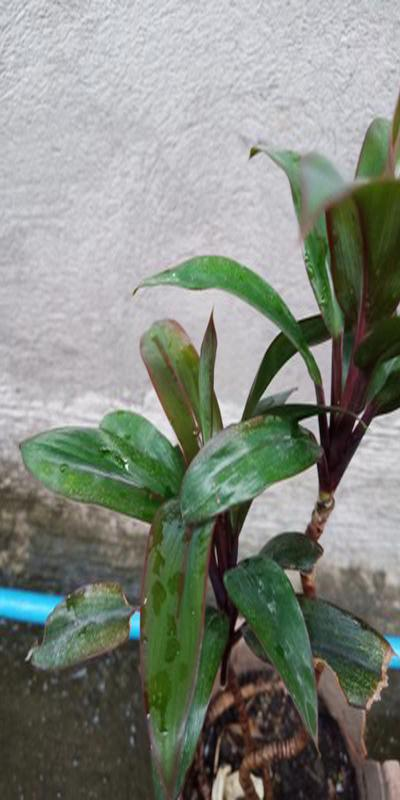Baston de san jose: (86, 199, 385, 784)
